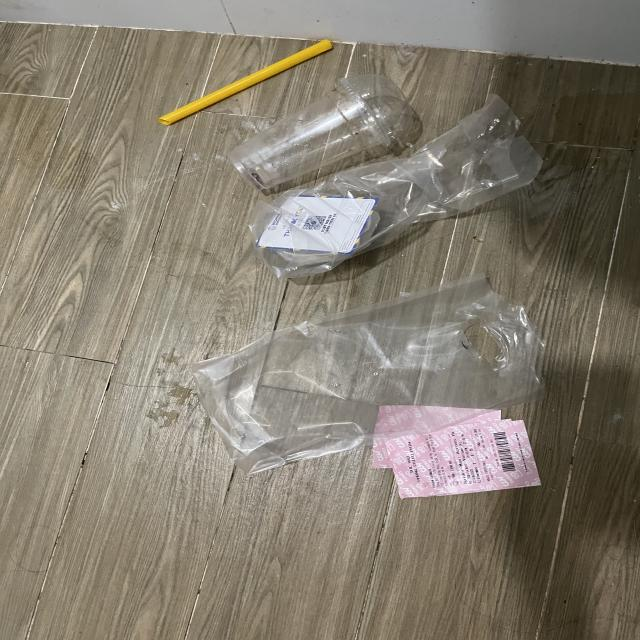bag: (186, 273, 544, 474)
drinking straw: (158, 38, 334, 126)
paper: (370, 407, 541, 501)
plastic glass: (223, 72, 412, 186)
trash bag: (254, 91, 544, 278)
